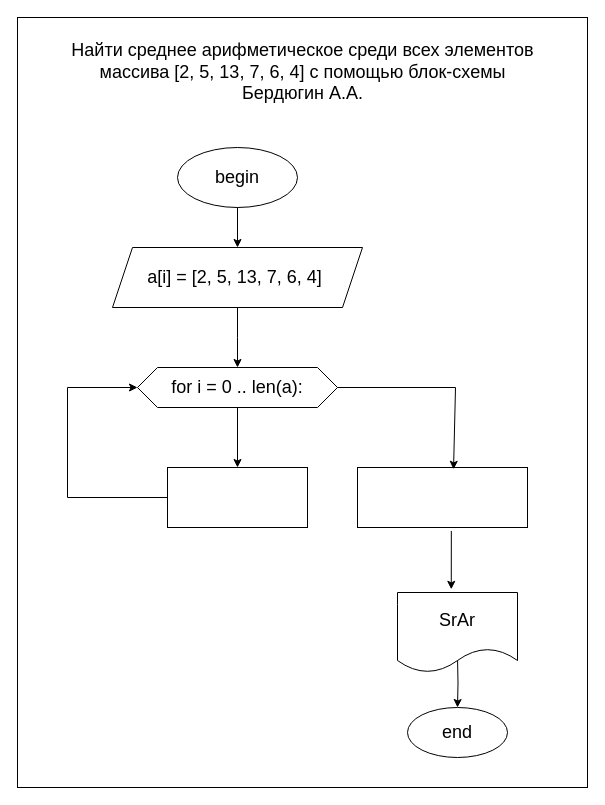
Some shapes in this 605 by 805 pixel diagram are drawn without their labels. Each missing label, with the box of its shape:
SrAr = Sum / len(a): (356, 466, 528, 528)
Sum += a[i] i += 1: (166, 466, 308, 528)
